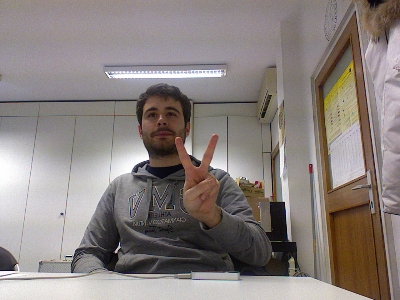剪刀: (174, 132, 221, 222)
